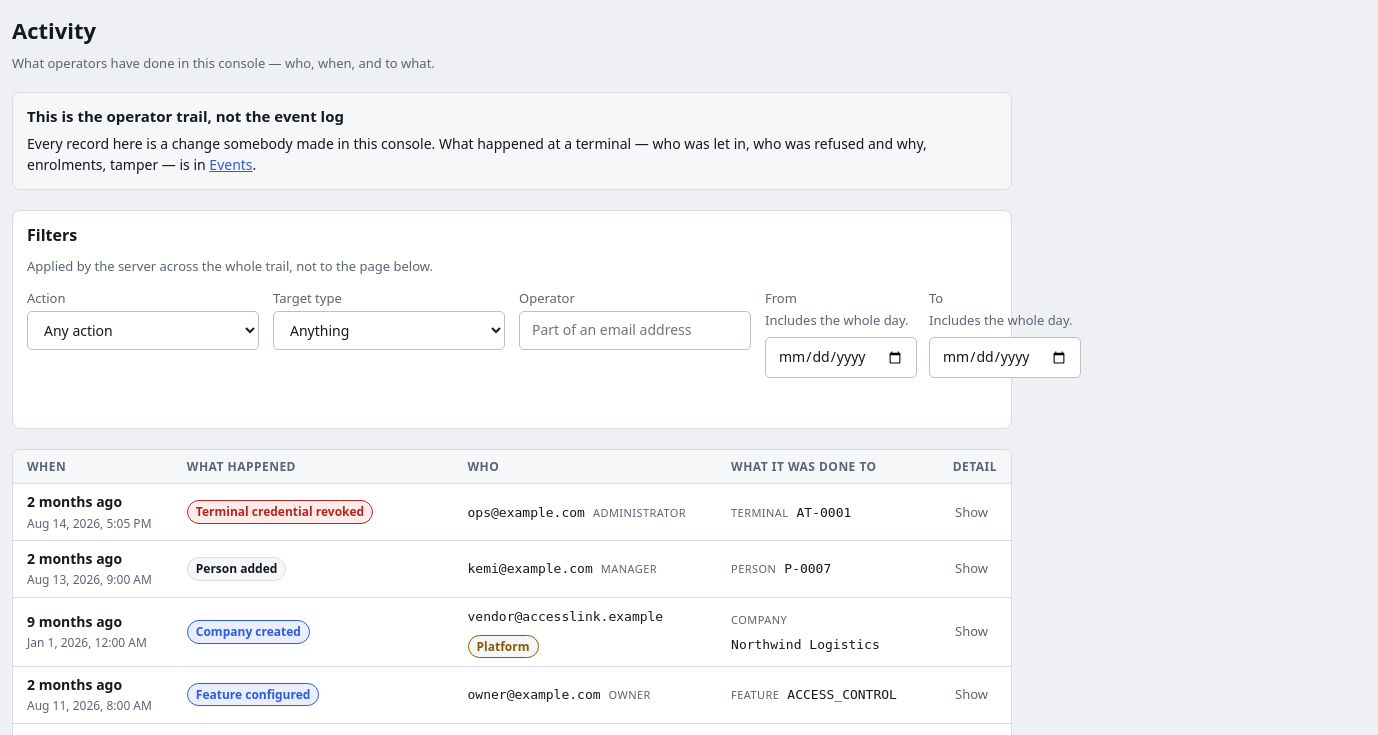
Test case: filtering › FILTERS ON THE SERVER, not by narrowing the page
expect the text "AT-0001" is shown: met, box [796, 504, 851, 523]
Select "Person added" in the dropdown labelled "Action" at (143,331), box [27, 311, 259, 350]
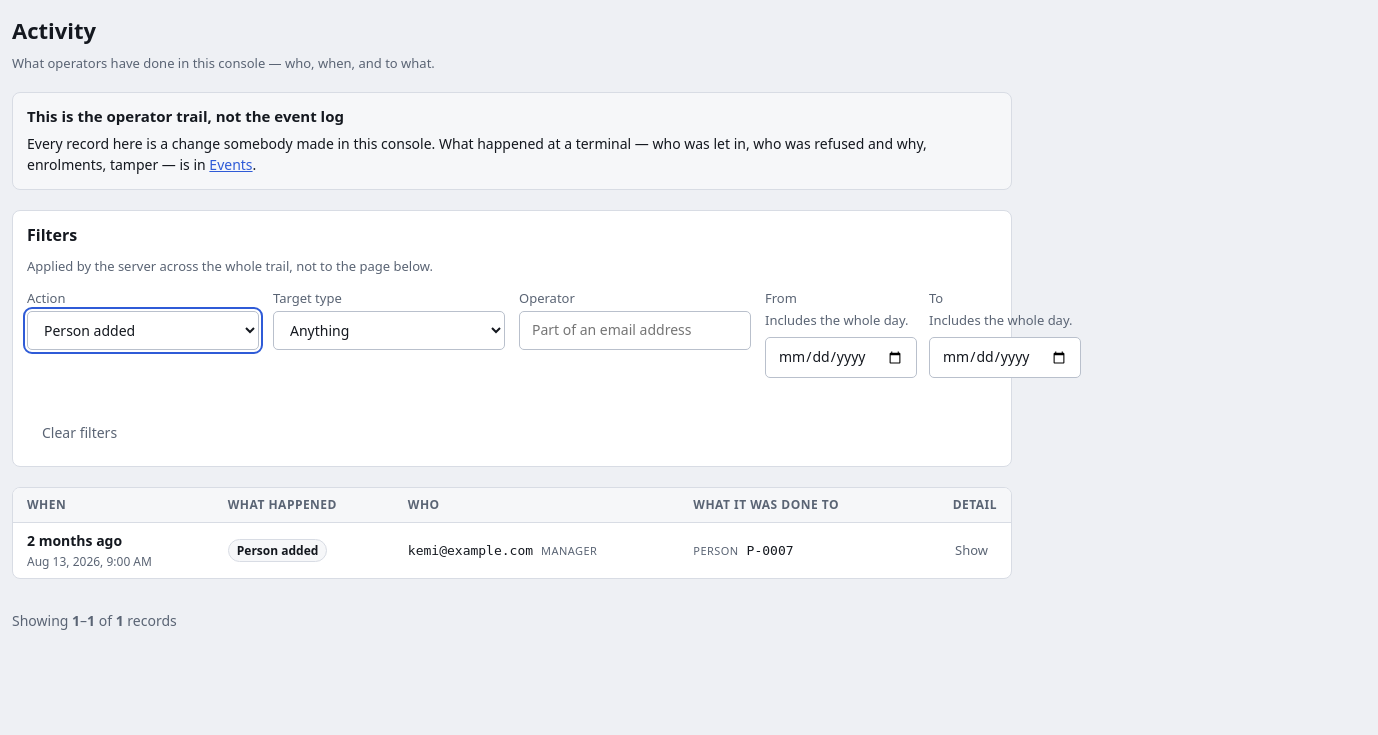
expect the text "P-0007" is shown: met, box [747, 542, 794, 561]
expect the text "AT-0001" is gone: met
